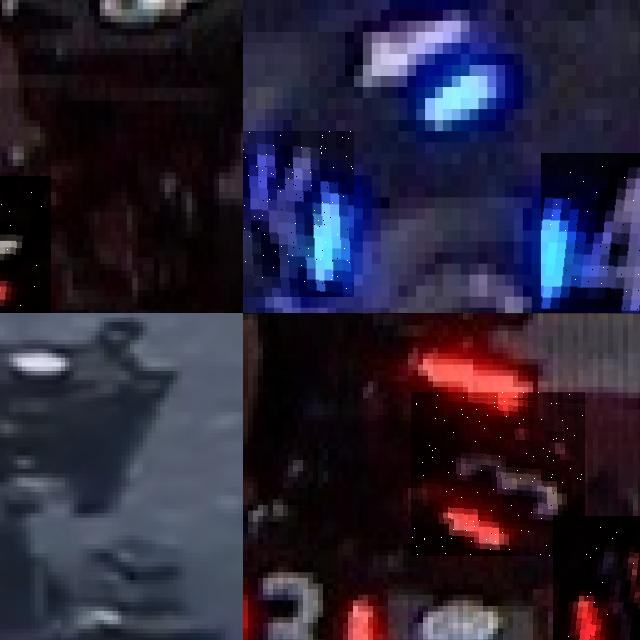B4: (243, 131, 353, 296), (540, 153, 640, 313)
R3: (411, 392, 585, 556), (243, 563, 385, 640), (553, 516, 640, 640)
R4: (0, 176, 50, 313)
